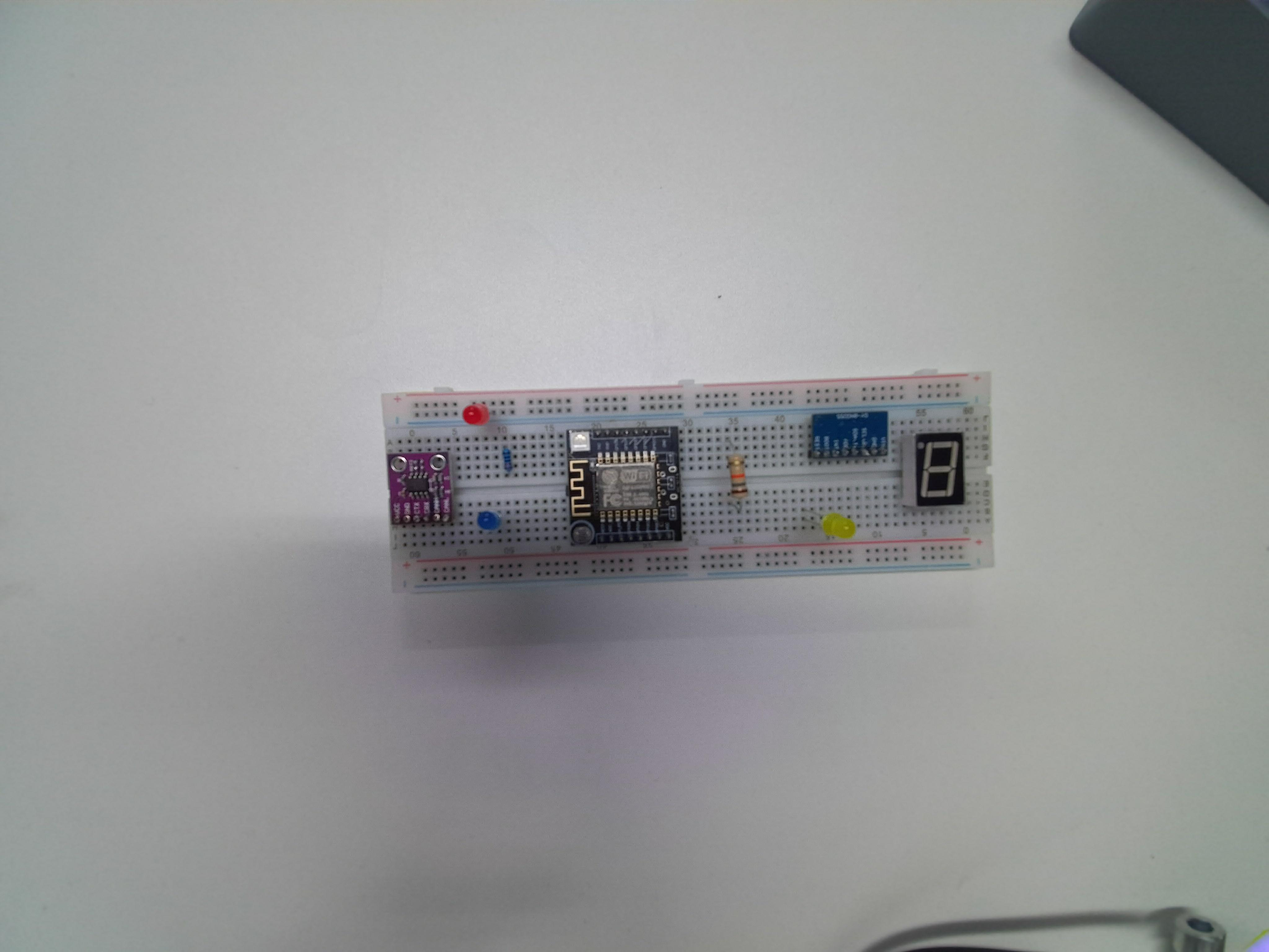base: (380, 375, 993, 592)
blue-board: (809, 409, 889, 463)
blue-led: (477, 510, 501, 533)
digit-board: (908, 426, 967, 510)
esp: (566, 425, 685, 550)
purple-board: (387, 449, 455, 528)
red-led: (464, 403, 489, 426)
resistor-big: (725, 448, 753, 503)
resistor-small: (501, 446, 517, 473)
yellow-led: (823, 512, 855, 541)
